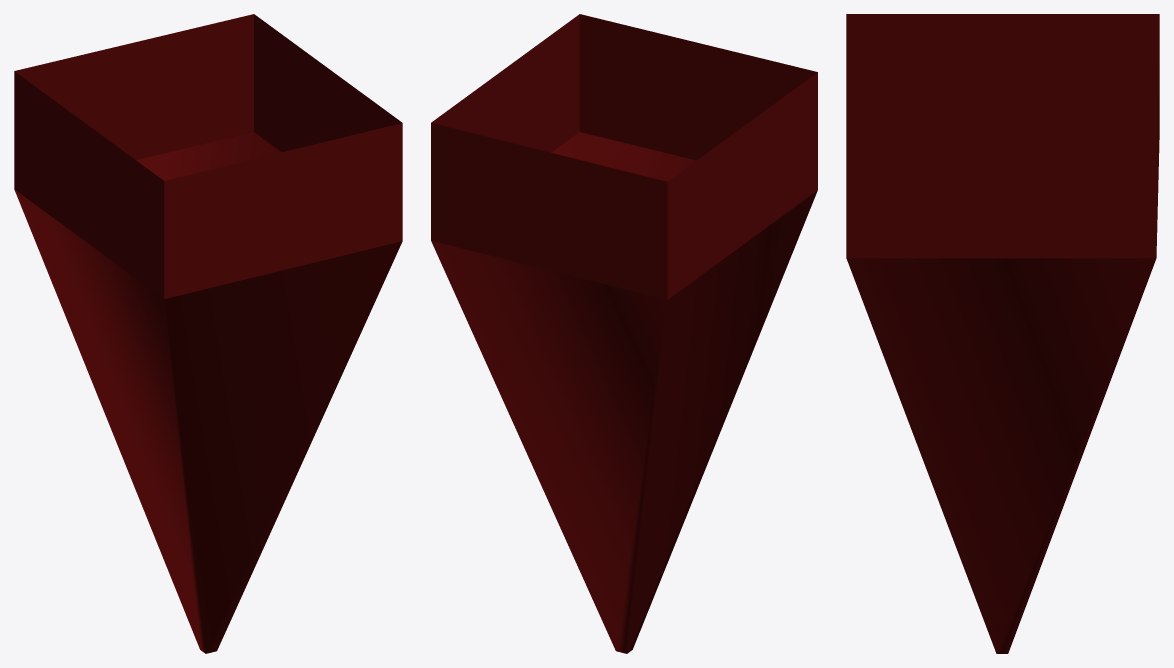
The model's file is Mesh_Spike_Single.fbx.
3 renders of one model, left to right at view 1: azimuth 30°, elevation 25°; view 2: azimuth 150°, elevation 25°; view 3: azimuth 270°, elevation 25°, orthographic. The views are drawn at different scales.
Parts seen in each view (by area): view 1: Mesh_Spike_Single; view 2: Mesh_Spike_Single; view 3: Mesh_Spike_Single.
Boxes of the visible parts, x1,y1,x2,y2 form: Mesh_Spike_Single: (14, 14, 402, 653); Mesh_Spike_Single: (431, 14, 817, 653); Mesh_Spike_Single: (846, 14, 1159, 653).
Bounding box in the file's own units: 2.7 × 5.98 × 2.94.
